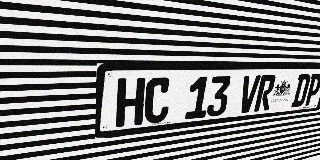1: (185, 76, 212, 120)
3: (206, 76, 231, 117)
C: (143, 77, 172, 124)
D: (291, 74, 312, 107)
H: (115, 78, 146, 128)
P: (303, 74, 320, 106)
R: (254, 75, 277, 112)
V: (237, 75, 261, 114)
